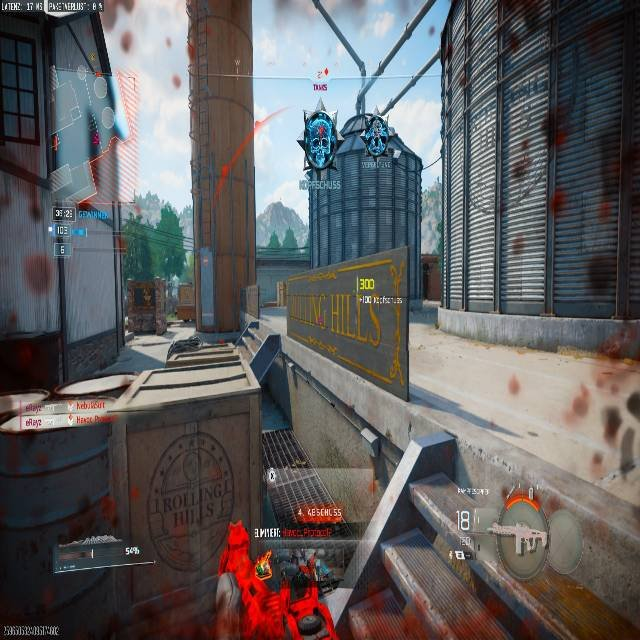player: (236, 548, 340, 639)
